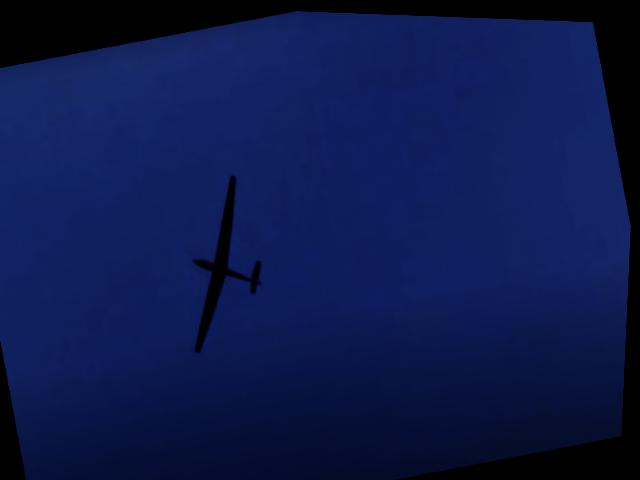iha: (161, 166, 287, 352)
